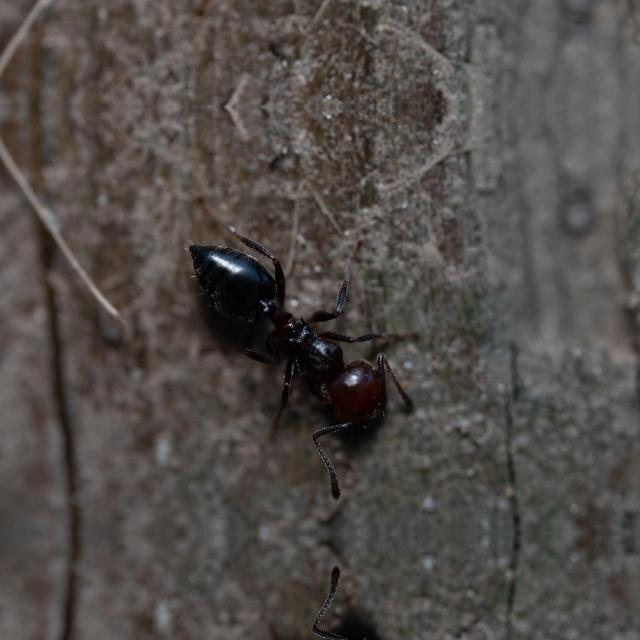Crematogaster: (171, 216, 411, 438)
